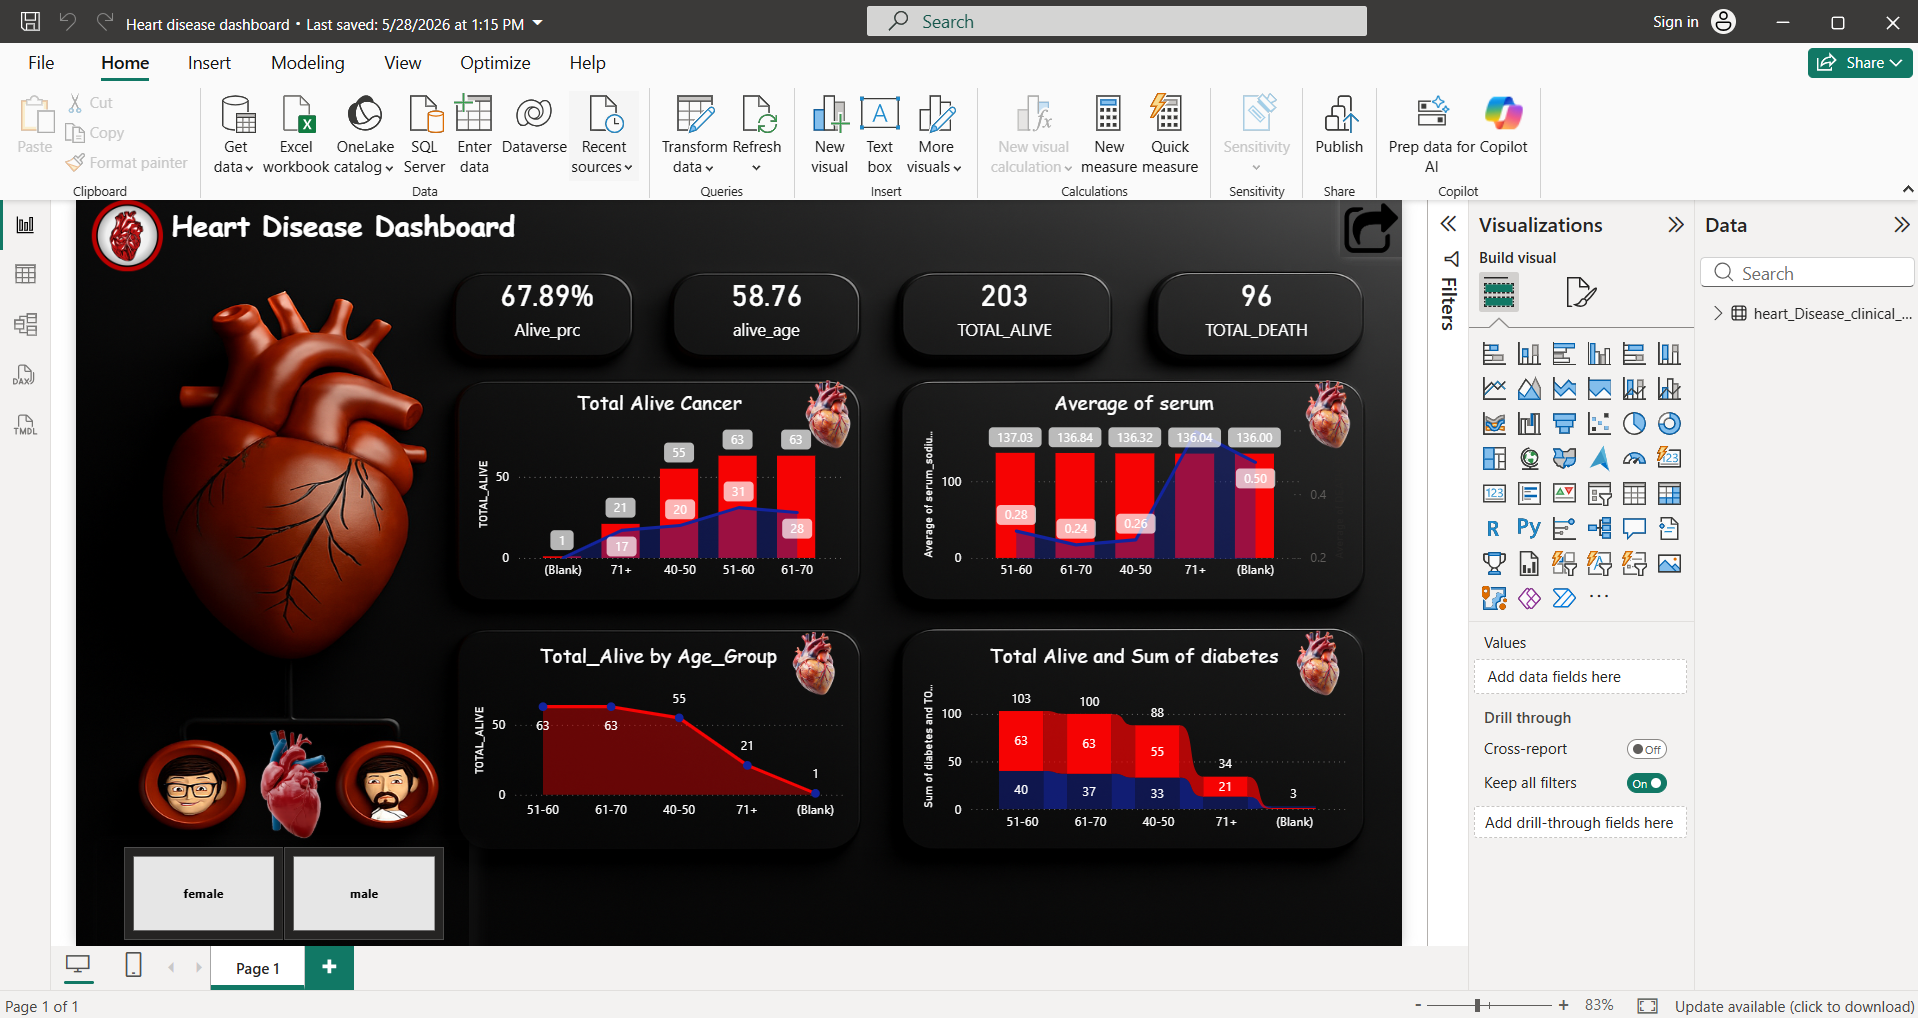

What the dashboard file says about the page in this screenshot:
{"tool":"powerbi","page":{"name":"Page 1","canvas":[1280,720],"ordinal":0},"visuals":[{"type":"textbox","box":[0,0,435,68.6],"z":0},{"type":"card","fields":{"Values":["heart_Disease_clinical_records_.Alive_prc"]},"box":[378.7,54.9,152.3,93.3],"z":1000},{"type":"card","fields":{"Values":["heart_Disease_clinical_records_.alive_age"]},"box":[587.3,54.9,157.8,93.3],"z":2000},{"type":"card","fields":{"Values":["heart_Disease_clinical_records_.TOTAL_ALIVE"]},"box":[812.4,54.9,168.8,93.3],"z":3000},{"type":"card","fields":{"Values":["heart_Disease_clinical_records_.TOTAL_DEATH"]},"box":[1059.4,54.9,160.5,93.3],"z":4000},{"type":"lineClusteredColumnComboChart","title":"Total Alive Cancer","fields":{"Y":["heart_Disease_clinical_records_.TOTAL_ALIVE"],"Y2":["Sum(heart_Disease_clinical_records_.cancer)"],"Category":["heart_Disease_clinical_records_.AGE_GROUP"]},"box":[382.8,182.5,360.9,193.5],"z":5000},{"type":"lineClusteredColumnComboChart","title":"Average of serum","fields":{"Y":["Avg(heart_Disease_clinical_records_.serum_sodium)"],"Y2":["Avg(heart_Disease_clinical_records_.DEATH_EVENT)"],"Category":["heart_Disease_clinical_records_.AGE_GROUP"]},"box":[812.4,182.5,418.5,193.5],"z":6000},{"type":"lineChart","title":"Total_Alive by Age_Group","fields":{"Category":["heart_Disease_clinical_records_.AGE_GROUP"],"Y":["heart_Disease_clinical_records_.TOTAL_ALIVE"]},"box":[378.7,425.4,366.4,181.1],"z":7000},{"type":"ribbonChart","title":"Total Alive and Sum of diabetes","fields":{"Category":["heart_Disease_clinical_records_.AGE_GROUP"],"Y":["Sum(heart_Disease_clinical_records_.diabetes)","heart_Disease_clinical_records_.TOTAL_ALIVE"]},"box":[812.4,425.4,418.5,192.1],"z":8000},{"type":"slicer","fields":{"Values":["heart_Disease_clinical_records_.Gender"]},"box":[20.6,617.5,358.1,102.9],"z":9000},{"type":"image","box":[1219.9,0,60.4,54.9],"z":10000},{"type":"image","box":[691.6,172.9,70,68.6],"z":11000},{"type":"image","box":[1219.6,0,60.4,54.9],"z":12000},{"type":"image","box":[140,496.7,140,134.5],"z":13000},{"type":"image","box":[0,0,98.8,68.6],"z":14000},{"type":"image","box":[1166.4,413,65.9,68.6],"z":15000},{"type":"image","box":[1167.8,172.9,82.3,68.6],"z":16000},{"type":"image","box":[680.6,414.4,64.5,67.2],"z":17000}]}

Visuals, with their boxes on the page's 1280x720 design canvas (x1, y1, x2, y2). These are canvas units, not pixel positions in the 1918x1018 screenshot, which may show the page scaled, cropped or inside an application window:
textbox: <region>0, 0, 435, 69</region>
card - heart_Disease_clinical_records_.Alive_prc: <region>379, 55, 531, 148</region>
card - heart_Disease_clinical_records_.alive_age: <region>587, 55, 745, 148</region>
card - heart_Disease_clinical_records_.TOTAL_ALIVE: <region>812, 55, 981, 148</region>
card - heart_Disease_clinical_records_.TOTAL_DEATH: <region>1059, 55, 1220, 148</region>
"Total Alive Cancer" lineClusteredColumnComboChart: <region>383, 182, 744, 376</region>
"Average of serum" lineClusteredColumnComboChart: <region>812, 182, 1231, 376</region>
"Total_Alive by Age_Group" lineChart: <region>379, 425, 745, 606</region>
"Total Alive and Sum of diabetes" ribbonChart: <region>812, 425, 1231, 618</region>
slicer - heart_Disease_clinical_records_.Gender: <region>21, 618, 379, 720</region>
image: <region>1220, 0, 1280, 55</region>
image: <region>692, 173, 762, 242</region>
image: <region>1220, 0, 1280, 55</region>
image: <region>140, 497, 280, 631</region>
image: <region>0, 0, 99, 69</region>
image: <region>1166, 413, 1232, 482</region>
image: <region>1168, 173, 1250, 242</region>
image: <region>681, 414, 745, 482</region>
